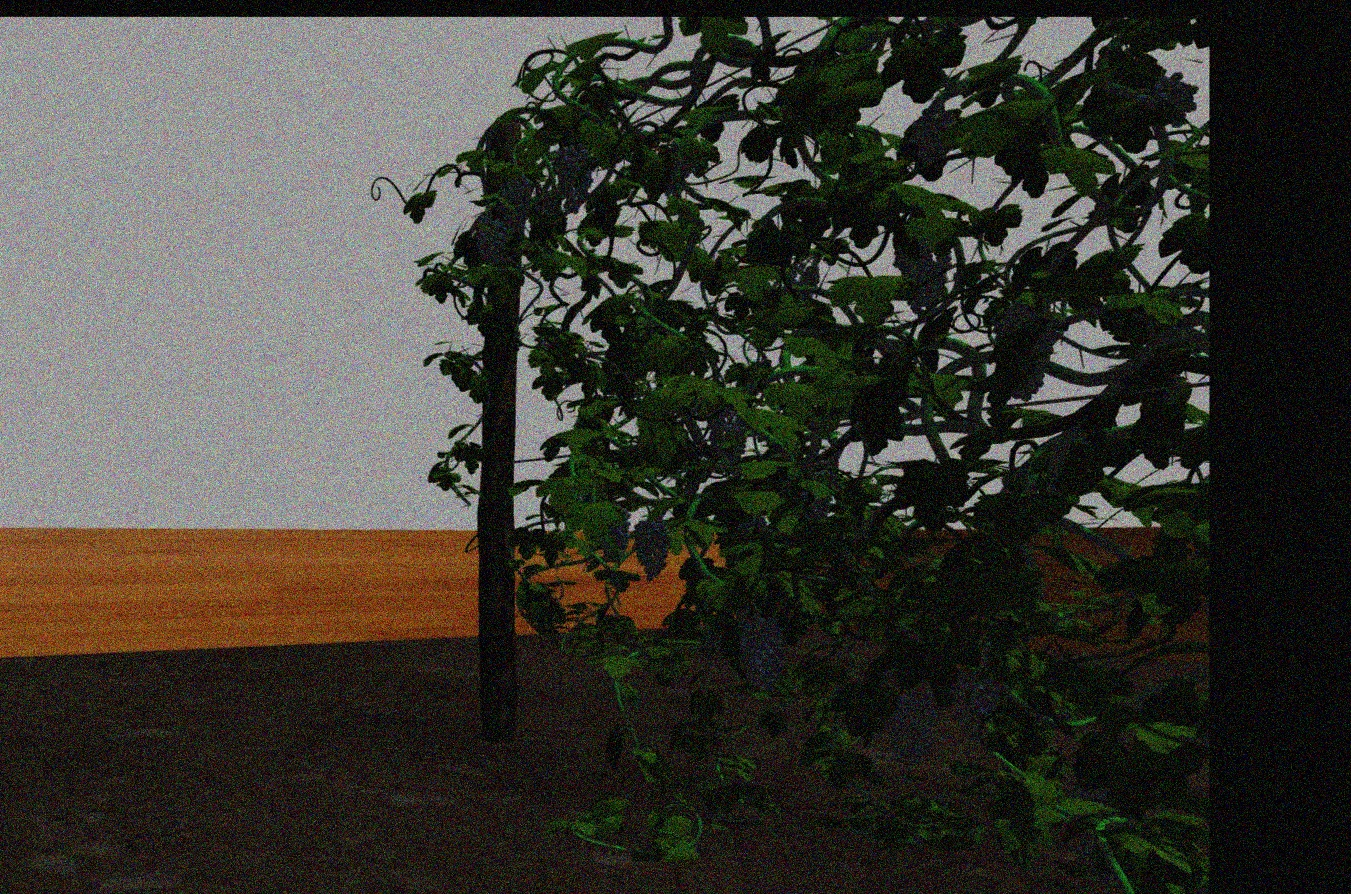grape: (993, 306, 1053, 400), (893, 230, 954, 315), (735, 612, 787, 693), (885, 690, 938, 763), (947, 671, 1001, 736), (1136, 73, 1197, 122), (909, 107, 955, 168), (553, 139, 591, 211), (633, 517, 670, 581), (707, 400, 746, 458), (497, 175, 532, 233), (472, 215, 506, 266), (600, 506, 630, 562)
